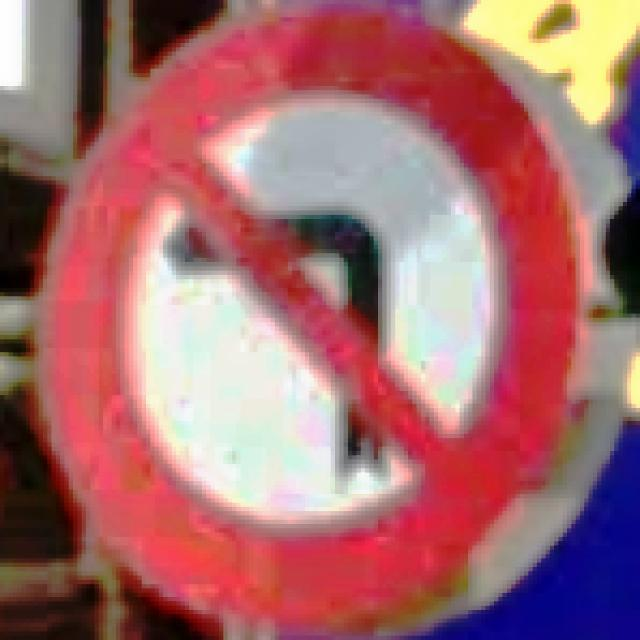noturnleft: (26, 0, 601, 636)
